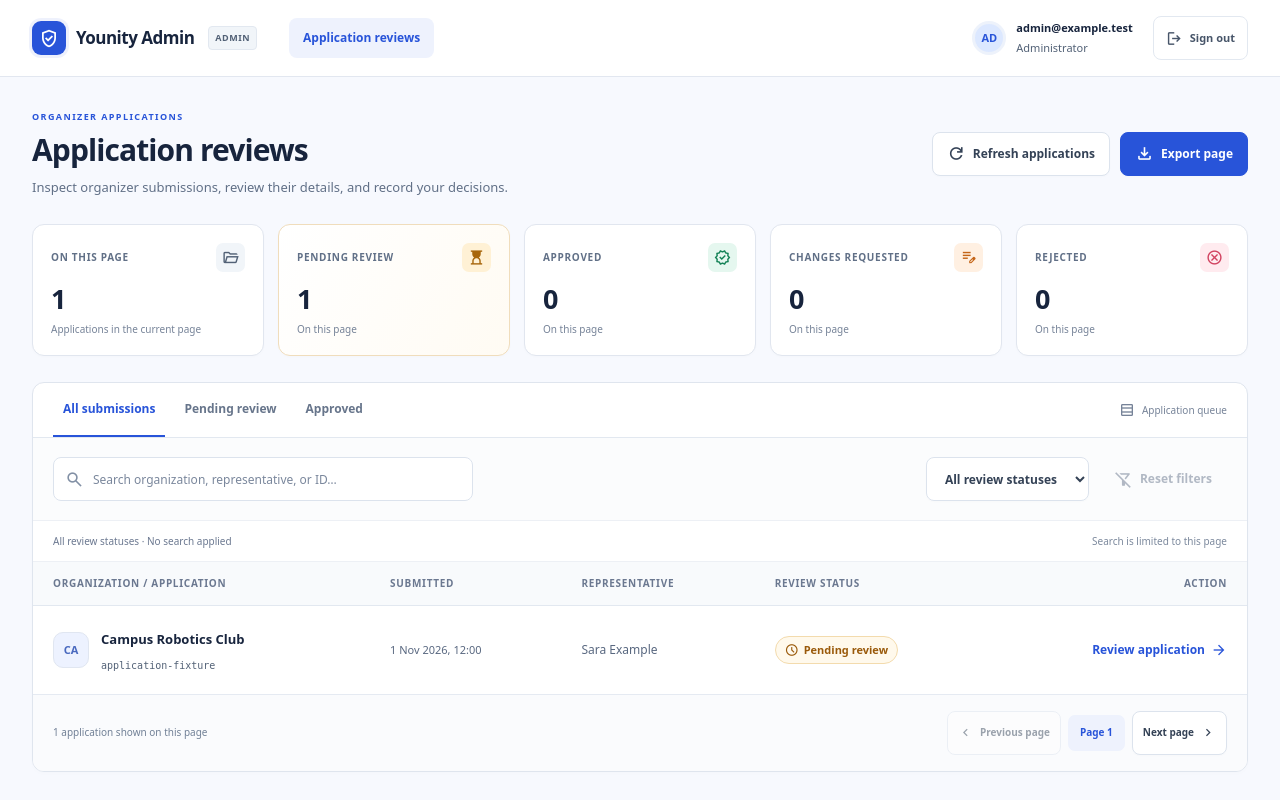
Scenario: application list › clears previously displayed data when the backend denies a refresh
The width and height of the screenshot is (1280, 800).
Expected: the link "Campus Robotics Club" is shown, [101, 628, 245, 653]
Click the button "Refresh applications".
click(1021, 154)  # box [932, 132, 1110, 176]
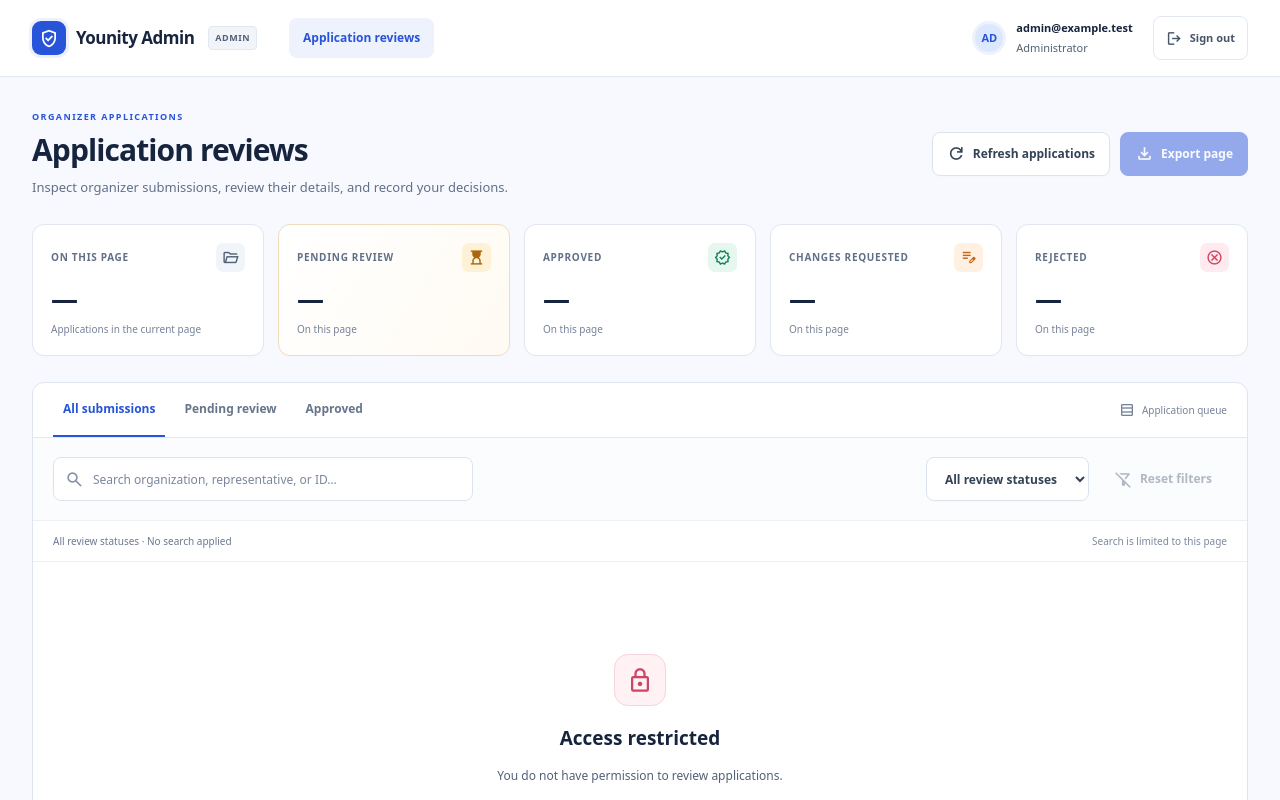
Now the message shows "do not have permission", box [497, 767, 783, 784]
Now the link "Campus Robotics Club" is gone
